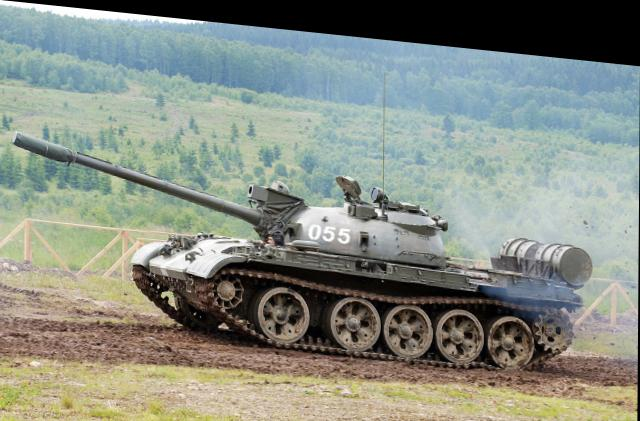tank: (139, 155, 576, 354)
